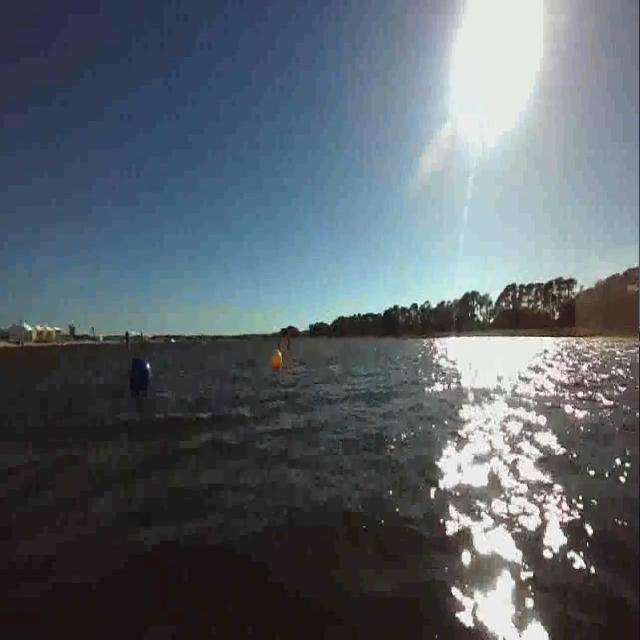yellow-buoy: (272, 351, 284, 370)
